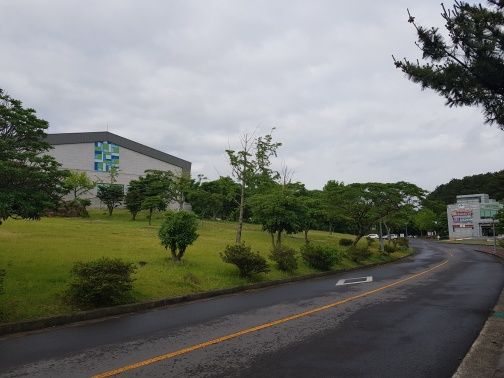Gym: (40, 127, 193, 213), (91, 136, 123, 176)
